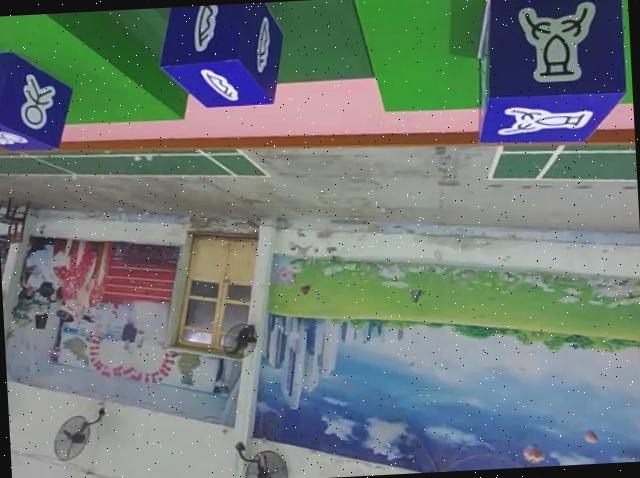R2 Real Blue: (469, 0, 626, 148), (155, 2, 286, 112), (0, 45, 78, 150)
